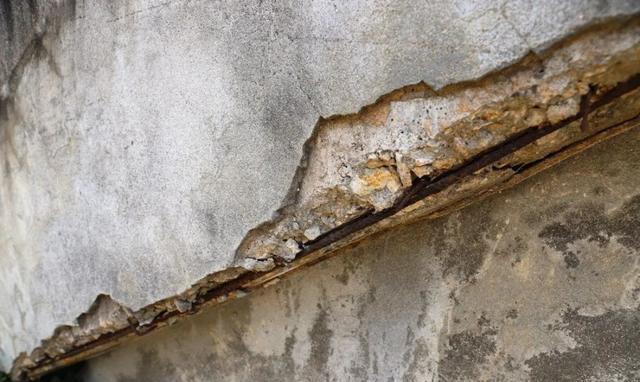Exposed reinforcement: (18, 71, 640, 382)
Spalling: (1, 9, 640, 382)
